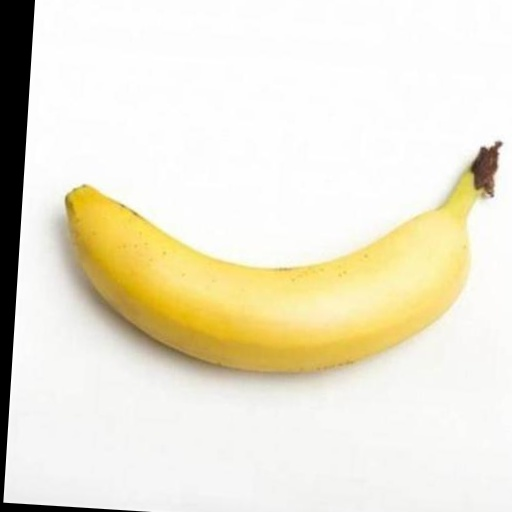fruit: (66, 142, 499, 371)
